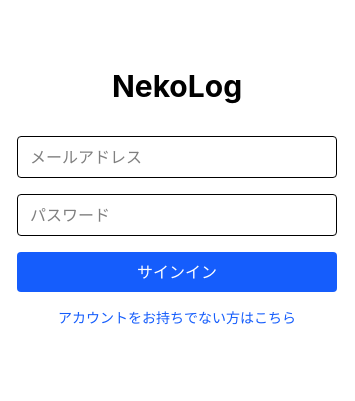
Test: LoginPage › should display error on sign-up failure
Click the button "アカウントをお持ちでない方はこちら" at (177, 318), box [17, 308, 337, 328]
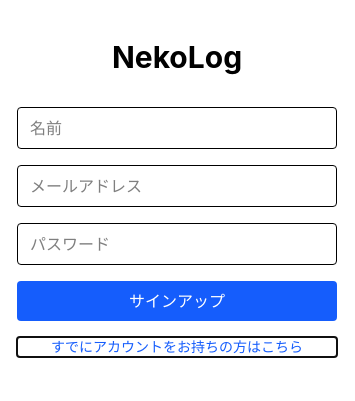
Type "Test User" into the field with placeholder "名前" at (177, 128), box [17, 107, 337, 149]
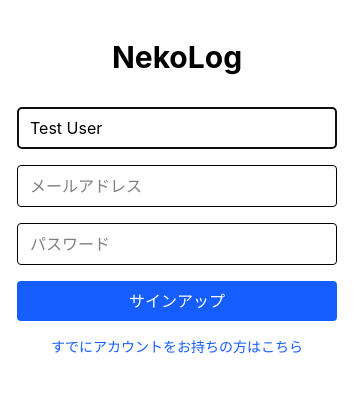
Type "test@example.com" into the field with placeholder "メールアドレス" at (177, 186), box [17, 165, 337, 207]
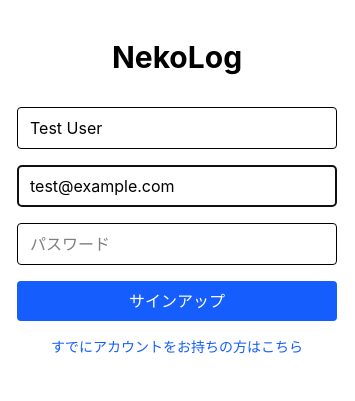
Type "password123" into the password field with placeholder "パスワード" at (177, 244), box [17, 223, 337, 265]
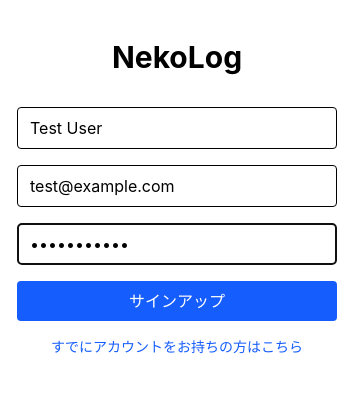
Click the button "サインアップ" at (177, 301), box [17, 281, 337, 321]
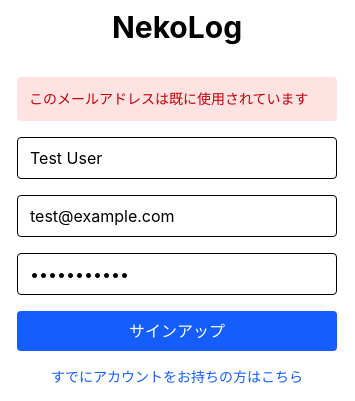
Result: the message reads "このメールアドレスは既に使用されています" at [29, 90, 309, 107]
